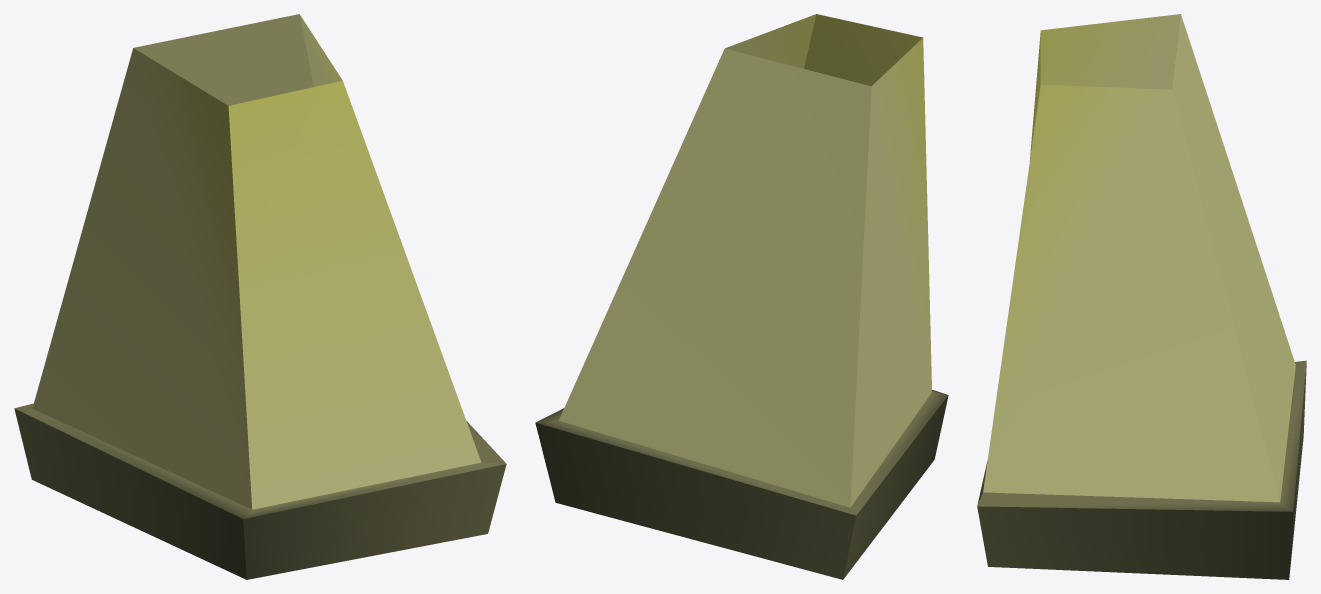
File: c_tower_body_square_ac.fbx
3 views of the same model, side by side, from view 1: azimuth 30°, elevation 25°; view 2: azimuth 150°, elevation 25°; view 3: azimuth 270°, elevation 25° (orthographic). The views are drawn at different scales.
Visible parts, largest first — view 1: c_tower_body_square_ac; view 2: c_tower_body_square_ac; view 3: c_tower_body_square_ac.
Boxes of the visible parts, left/top/right/bottom form: c_tower_body_square_ac: left=14, top=14, right=506, bottom=579; c_tower_body_square_ac: left=535, top=14, right=948, bottom=579; c_tower_body_square_ac: left=977, top=14, right=1306, bottom=579.
Bounding box in the file's own units: 7.37 × 9.46 × 6.44.
